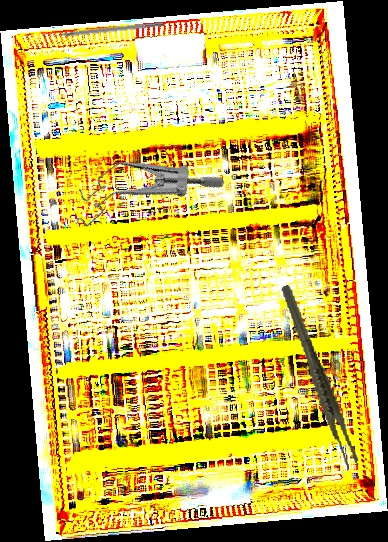Hook Surgical: (43, 20, 163, 40)
Speculum: (59, 116, 227, 270)
Tissue Forceps: (279, 278, 361, 476)
